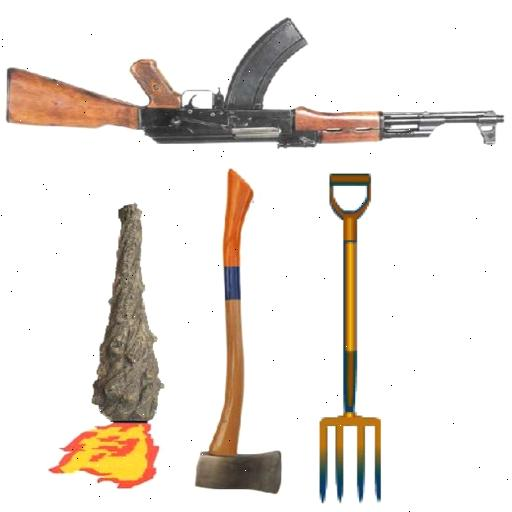Axe: (192, 169, 282, 492)
